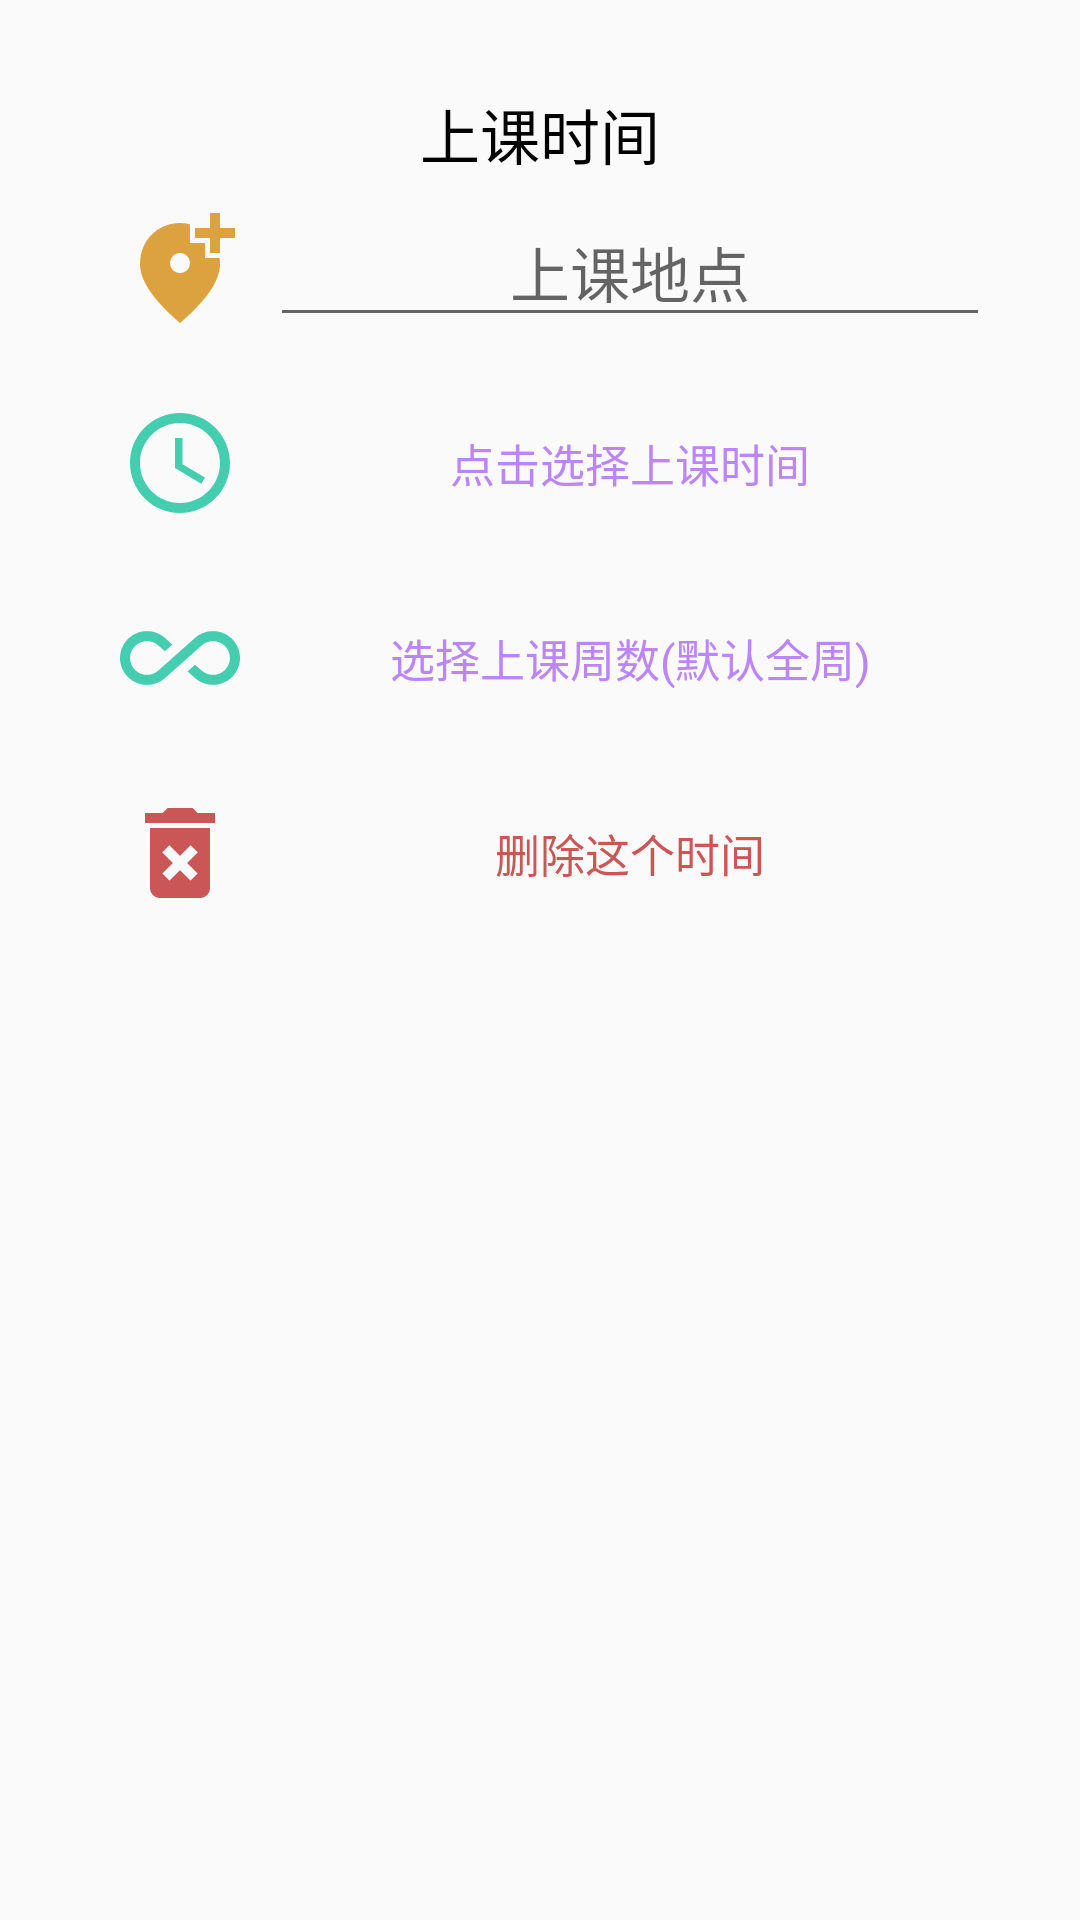

Named icons in this screenshot (1080 × 1920) and their centers, [x,y]:
class location: [187,268]
delete: [180,853]
time: [180,463]
